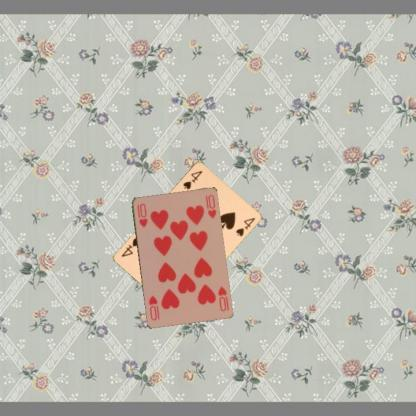10h: (134, 201, 149, 228), (215, 284, 228, 312)
4s: (180, 168, 204, 191)
